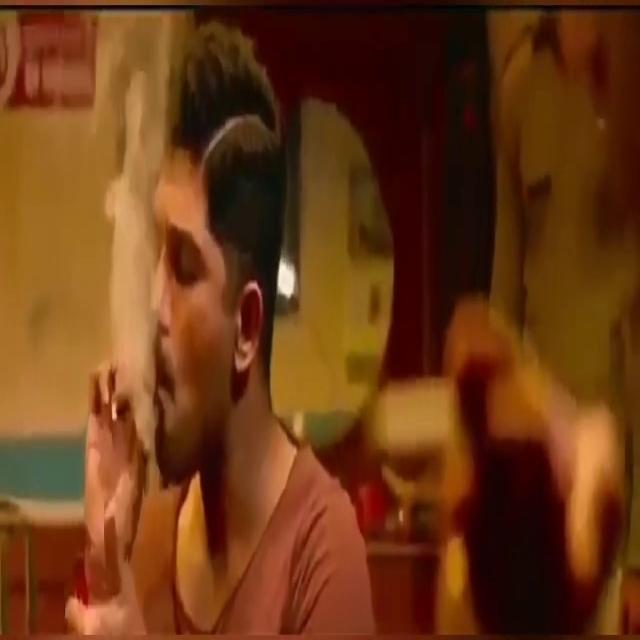smoking: (130, 52, 136, 464)
